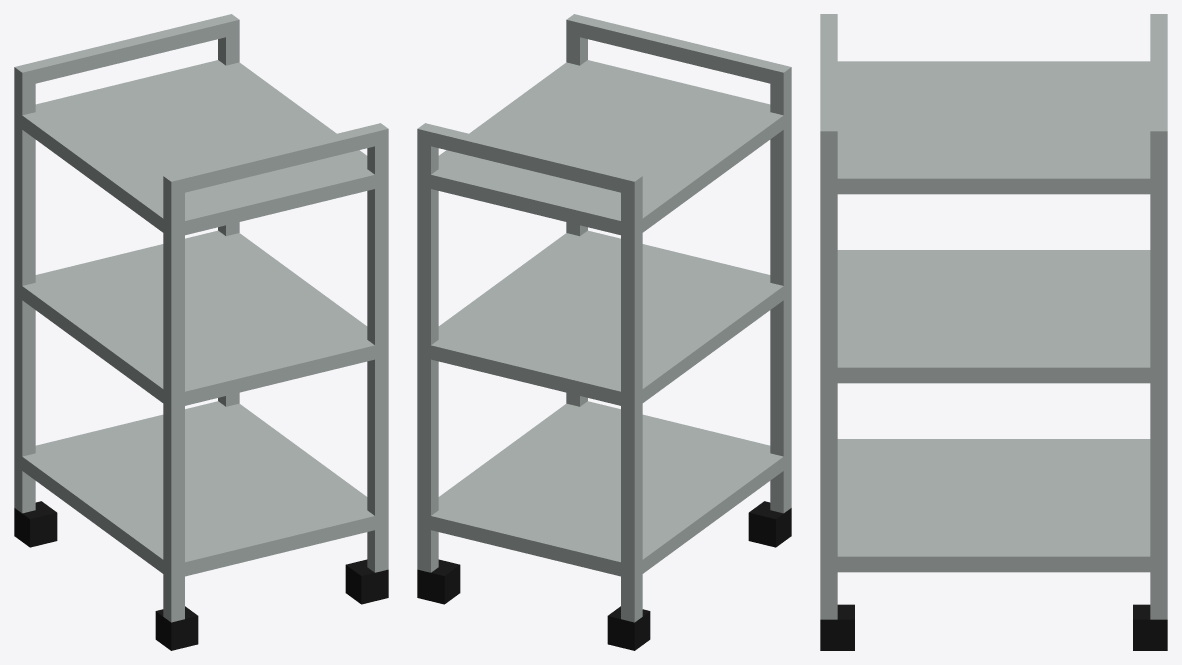
The model's file is table_mobile_02.dae.
3 renders of one model, left to right at view 1: azimuth 30°, elevation 25°; view 2: azimuth 150°, elevation 25°; view 3: azimuth 270°, elevation 25°, orthographic. The views are drawn at different scales.
Visible parts, largest first — view 1: Untitled; view 2: Untitled; view 3: Untitled.
Boxes of the visible parts, x1,y1,x2,y2 form: Untitled: (14, 14, 388, 650); Untitled: (417, 14, 791, 650); Untitled: (820, 14, 1167, 650).
Size of the model in its own units: 0.48 by 0.6 by 0.99.
Materials: 1 (1 with a texture image).
